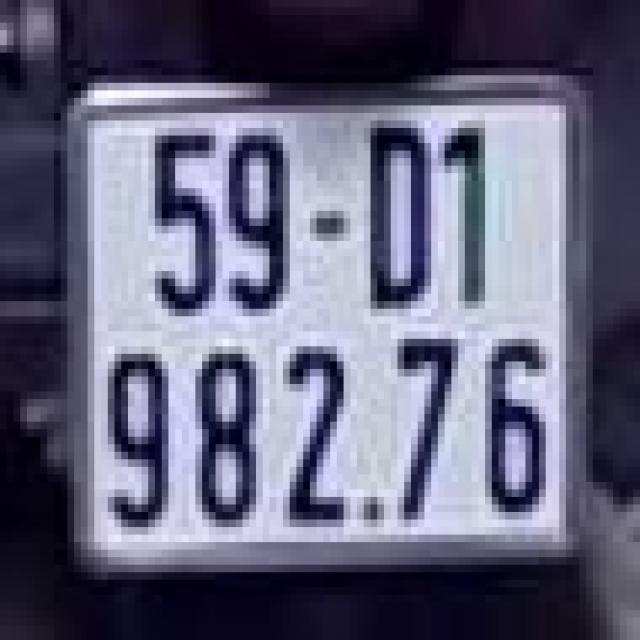1: (448, 116, 502, 312)
2: (270, 328, 357, 538)
5: (148, 120, 216, 324)
6: (478, 320, 559, 553)
7: (381, 320, 468, 531)
8: (182, 335, 256, 546)
9: (226, 120, 313, 316), (94, 331, 168, 542)
D: (354, 117, 441, 320)
